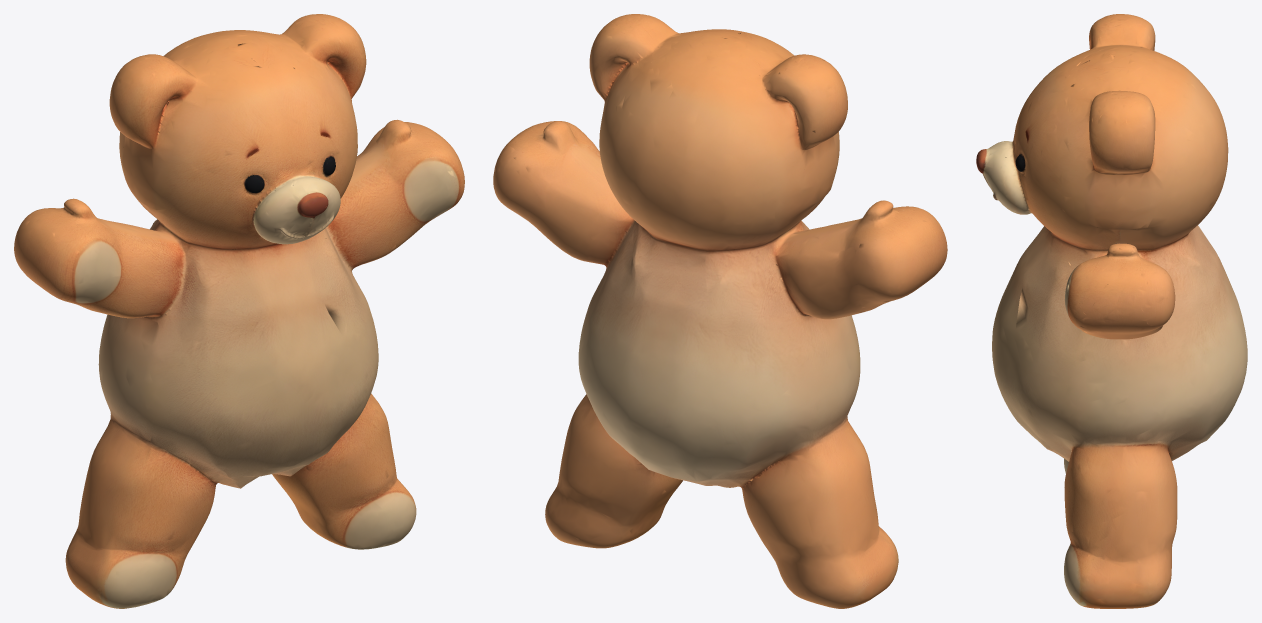
The model's file is chubby-teddy.glb.
3 renders of one model, left to right at view 1: azimuth 30°, elevation 25°; view 2: azimuth 150°, elevation 25°; view 3: azimuth 270°, elevation 25°, orthographic. The views are drawn at different scales.
Bounding box in the file's own units: 1.62 × 1.91 × 0.9687.
Materials: 1 (1 with a texture image).
